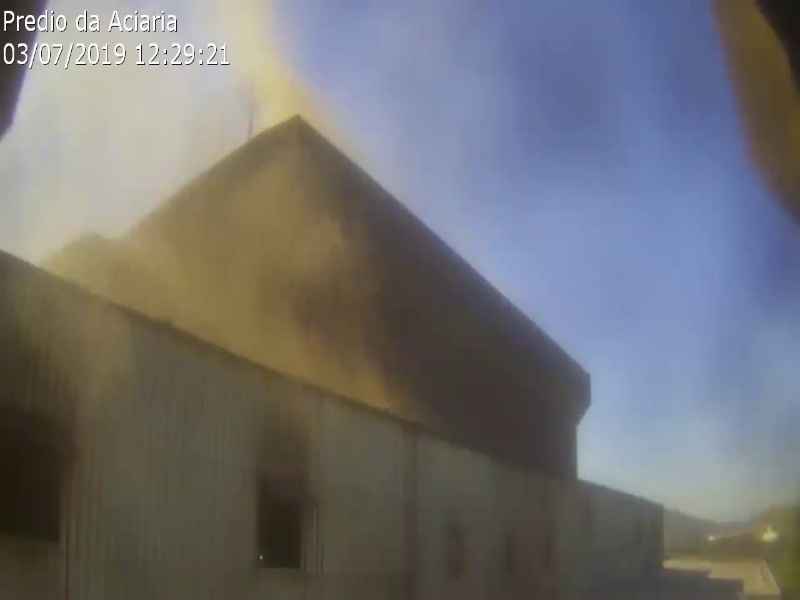Pessimo: (252, 35, 308, 126), (68, 237, 158, 285), (130, 258, 220, 306), (147, 204, 237, 252), (192, 288, 282, 336), (248, 311, 338, 359), (214, 241, 304, 289), (222, 182, 312, 230), (260, 230, 350, 278), (317, 337, 407, 385)
